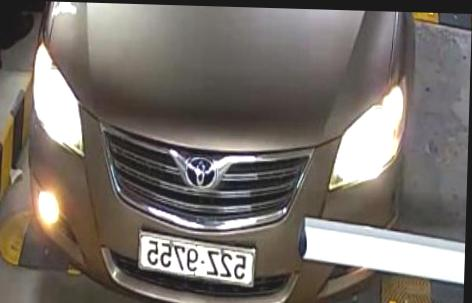License_Plate: (129, 232, 260, 289)
